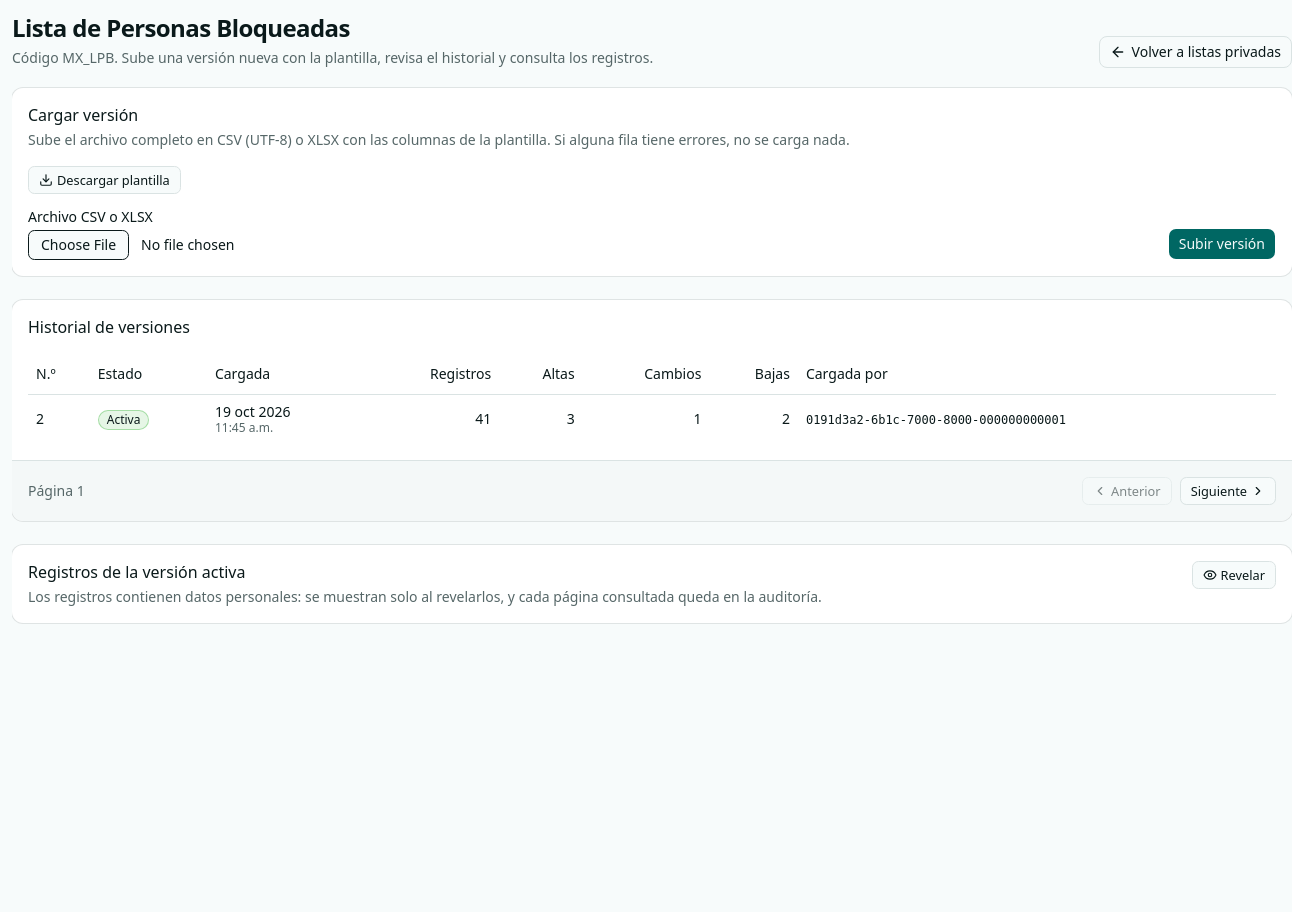
Test: PrivateListPage: revealed entries › hides the entries again
Click the button "Revelar": (1234, 575) [1192,561,1276,589]
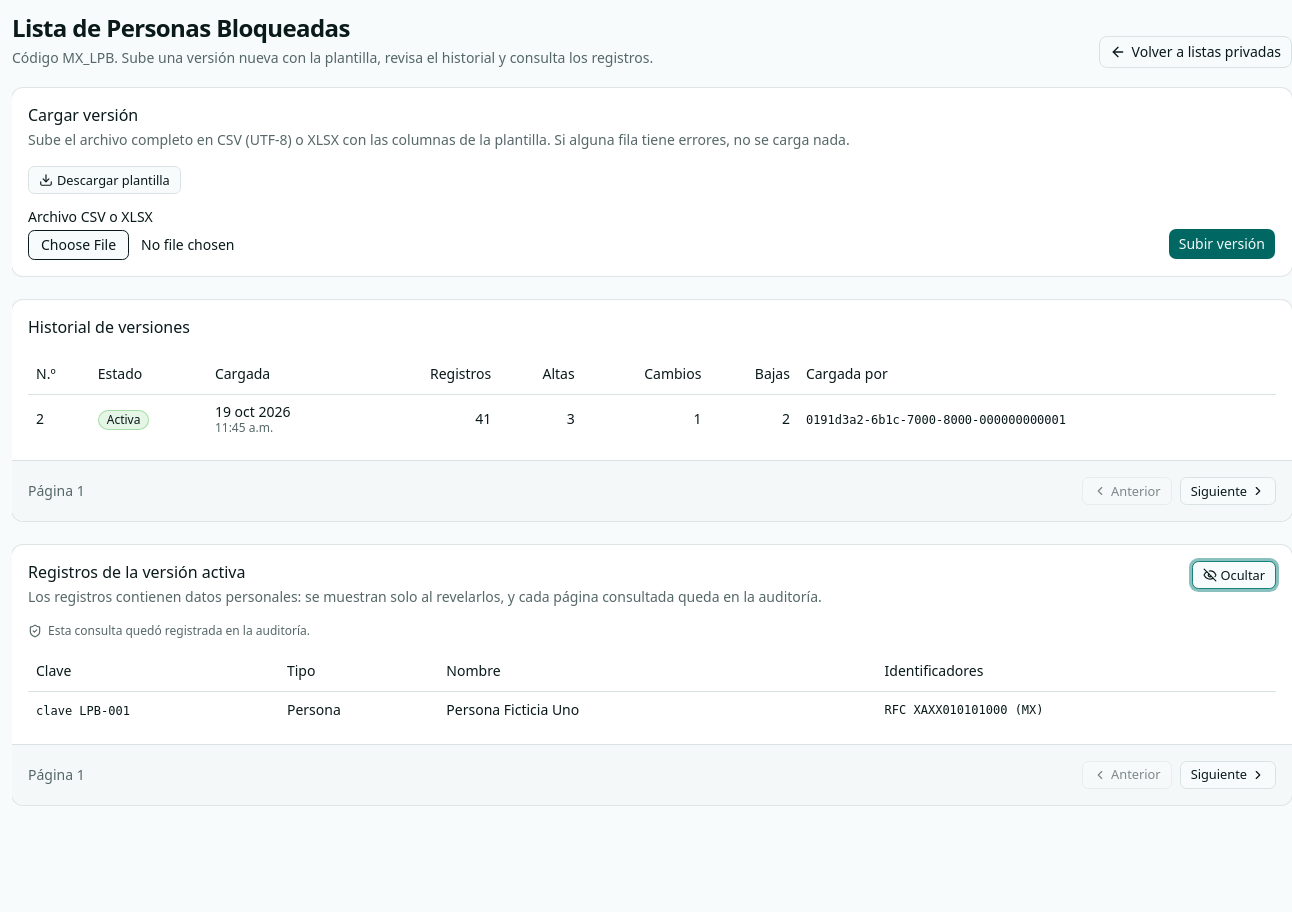
Now the text "Persona Ficticia Uno" is shown, box [438,691,877,728]
Click the button "Ocultar": (1234, 575) [1192,561,1276,589]
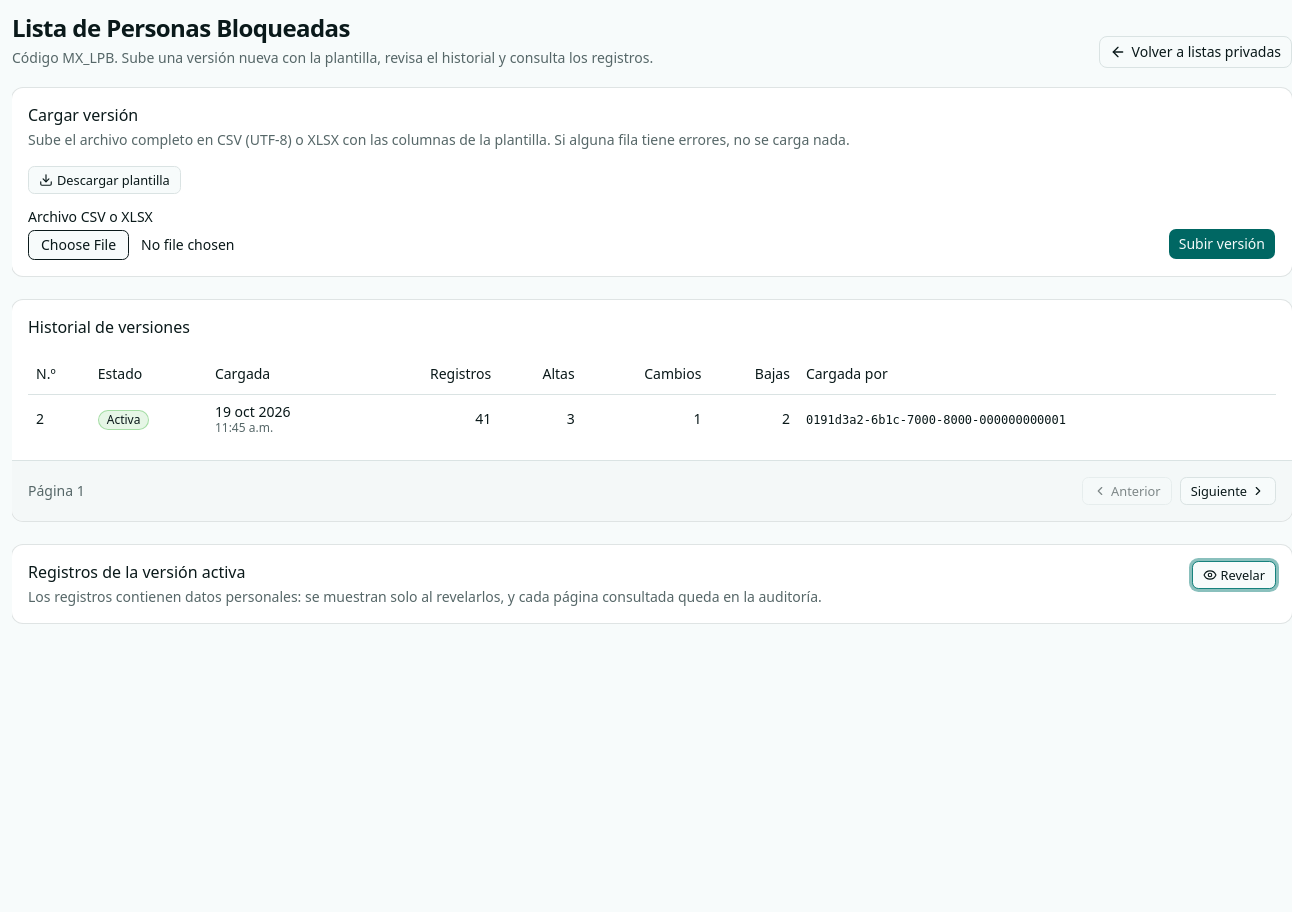
Now the text "Persona Ficticia Uno" is gone
